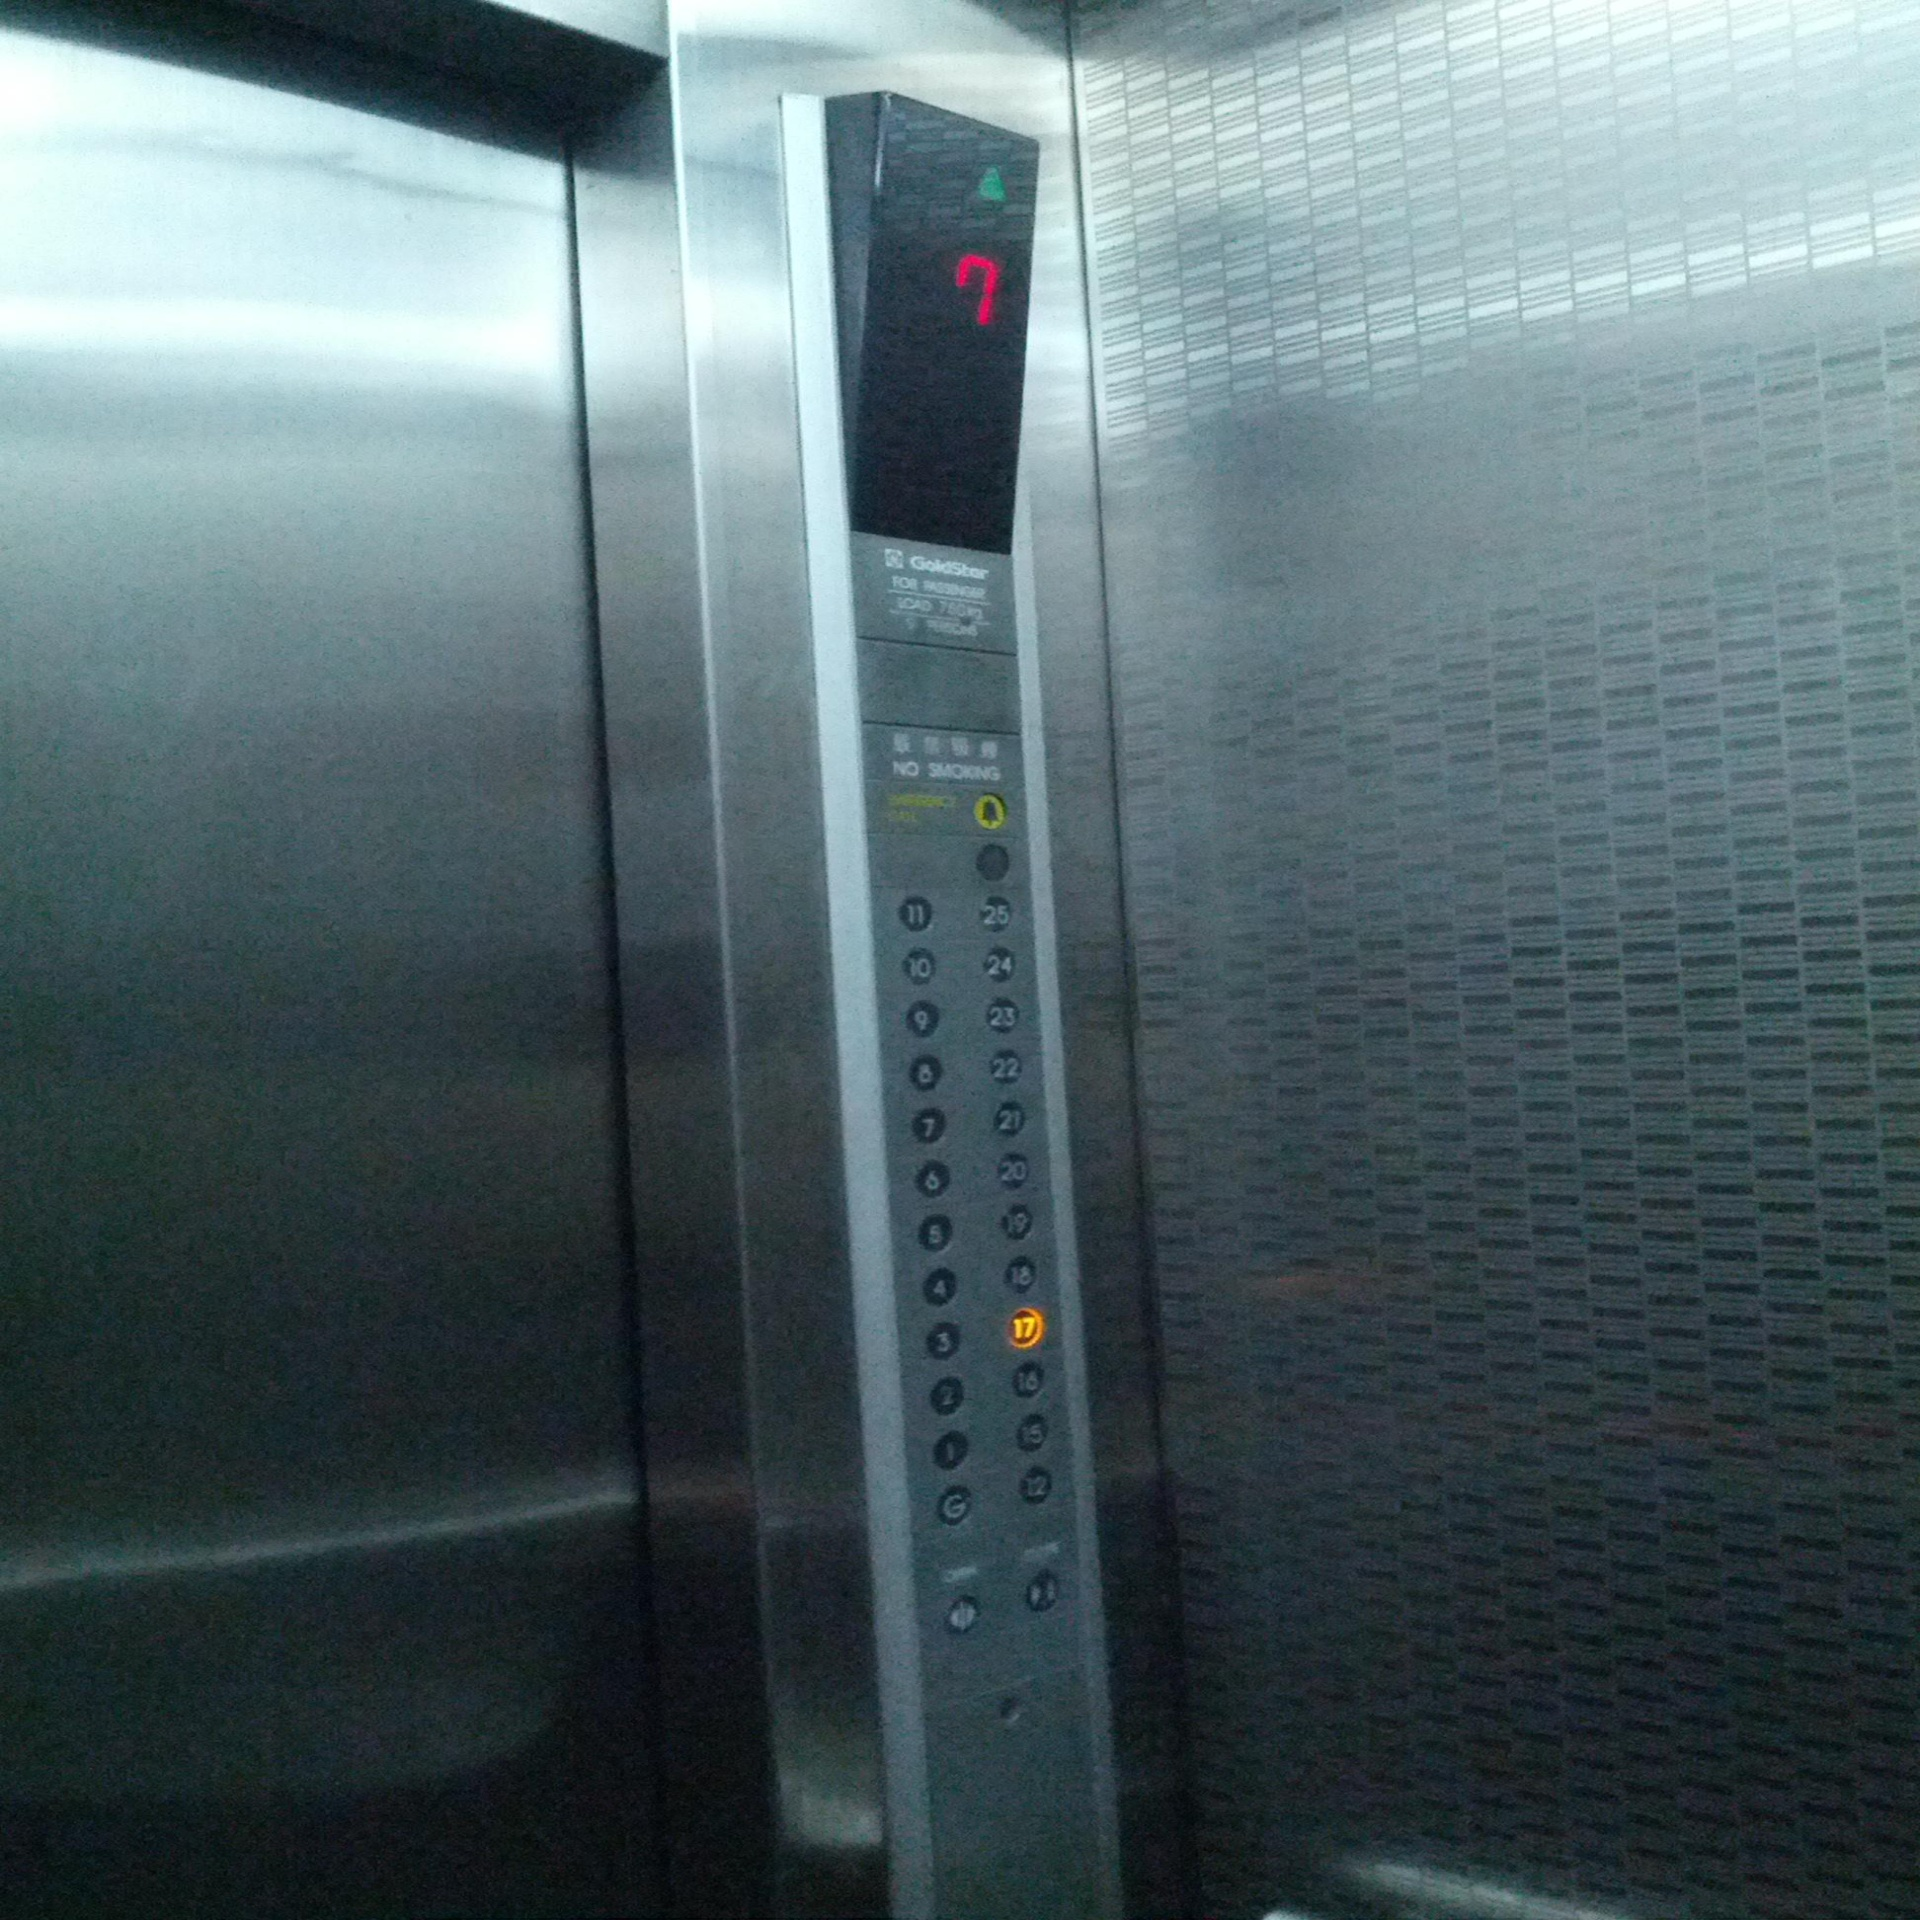1: (932, 1429, 967, 1470)
10: (902, 944, 937, 985)
11: (898, 893, 934, 934)
12: (1016, 1463, 1053, 1507)
15: (1015, 1412, 1050, 1452)
16: (1009, 1357, 1044, 1400)
17: (1006, 1306, 1044, 1350)
18: (1002, 1254, 1037, 1294)
19: (999, 1201, 1034, 1241)
2: (928, 1373, 964, 1415)
20: (995, 1148, 1030, 1190)
21: (992, 1095, 1027, 1138)
22: (986, 1044, 1022, 1087)
23: (985, 993, 1020, 1034)
24: (983, 942, 1016, 985)
25: (978, 893, 1013, 935)
3: (927, 1320, 962, 1361)
4: (921, 1266, 956, 1306)
5: (918, 1211, 951, 1254)
6: (916, 1155, 951, 1197)
7: (911, 1106, 946, 1146)
8: (907, 1051, 942, 1094)
9: (905, 997, 941, 1037)
G: (937, 1482, 972, 1524)
alarm: (972, 791, 1007, 832)
blur: (974, 840, 1009, 883)
close: (1023, 1568, 1058, 1614)
led: (814, 83, 1048, 570)
open: (942, 1593, 981, 1635)
